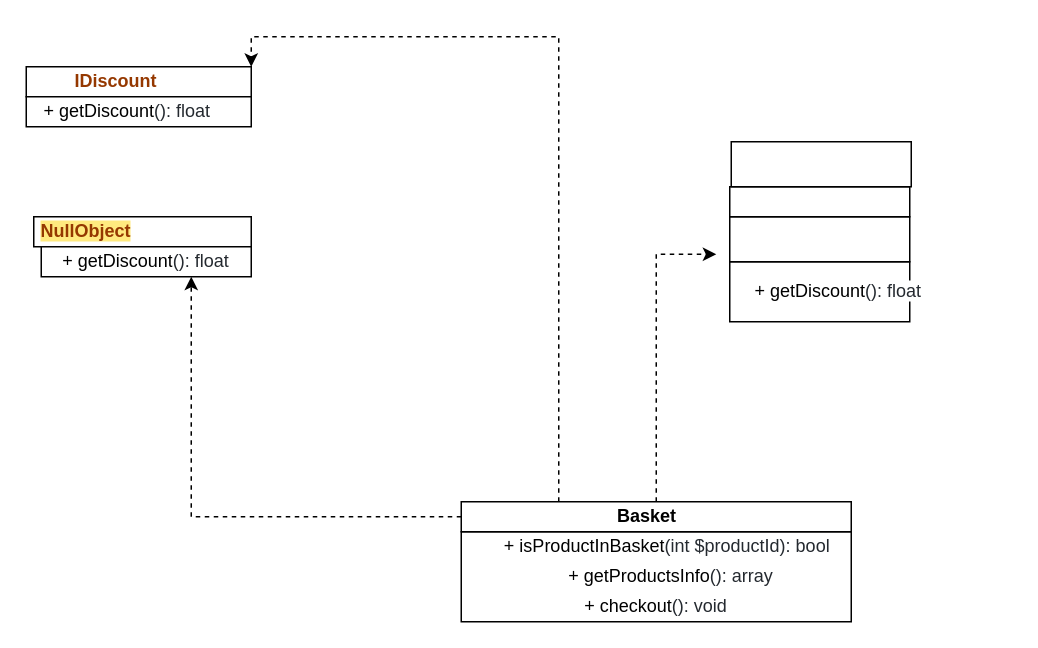
Some shapes in this 1038 by 648 pixel diagram are drawn without their labels. Here are the shapes that lost their labels. From the top down, the centre of each, then its label:
At point (820, 163): "PromoCode".
At point (819, 201): "- promoCode".
At point (819, 238): "+ __construct".
